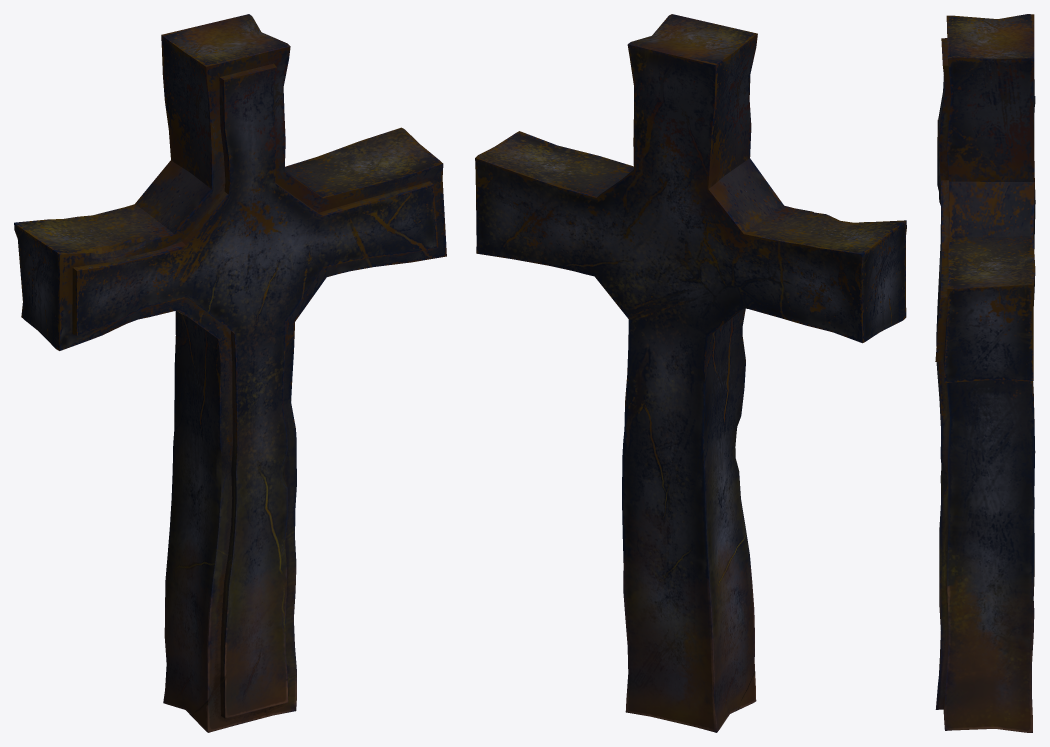
The model's file is tombstone.glb.
The picture shows the model from 3 angles, left to right: view 1: azimuth 30°, elevation 25°; view 2: azimuth 150°, elevation 25°; view 3: azimuth 270°, elevation 25°; orthographic projection.
Visible parts, largest first — view 1: Gravestone High; view 2: Gravestone High; view 3: Gravestone High.
Part boxes in pixels (left/top/right/bottom): Gravestone High: left=14, top=14, right=446, bottom=732; Gravestone High: left=475, top=14, right=906, bottom=732; Gravestone High: left=935, top=14, right=1035, bottom=732.
Size of the model in its own units: 0.5521 by 0.909 by 0.1223.
1 material, 1 textured.
